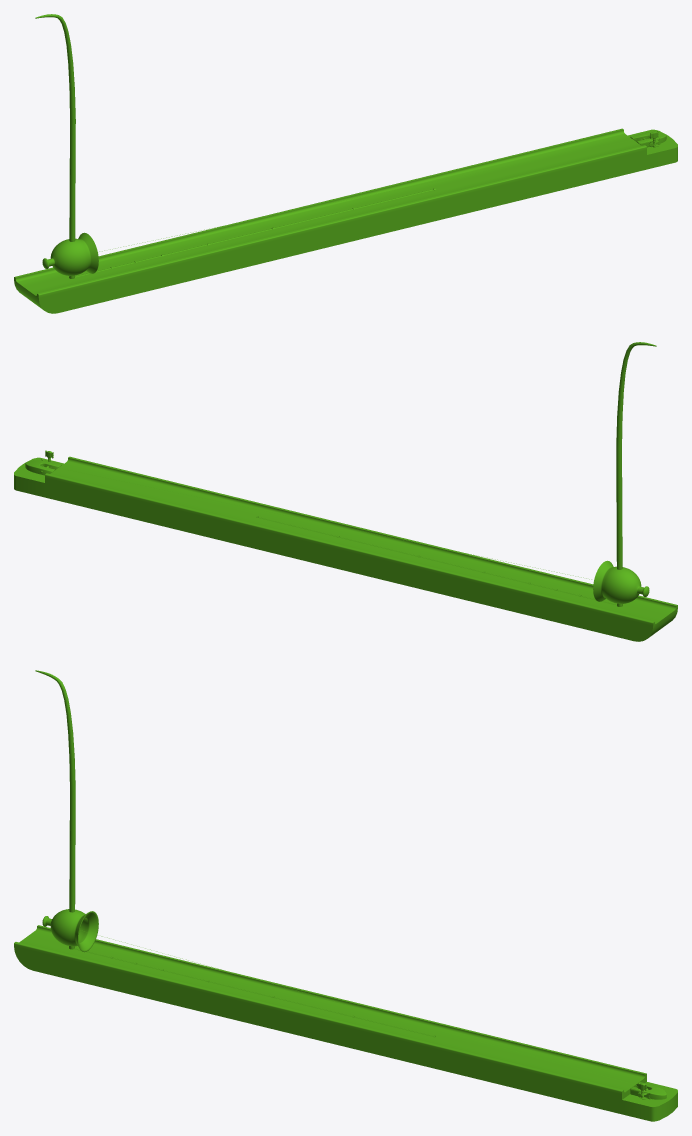
3 views of the same model, one above another, from view 1: azimuth 30°, elevation 25°; view 2: azimuth 150°, elevation 25°; view 3: azimuth 330°, elevation 25° (orthographic).
Parts seen in each view (by area): view 1: Box001; view 2: Box001; view 3: Box001.
Part boxes in pixels (x1=…): Box001: x1=14, y1=14, x2=677, y2=313; Box001: x1=14, y1=342, x2=677, y2=641; Box001: x1=14, y1=670, x2=677, y2=1121.
Size of the model in its own units: 313 by 134 by 20.88.
